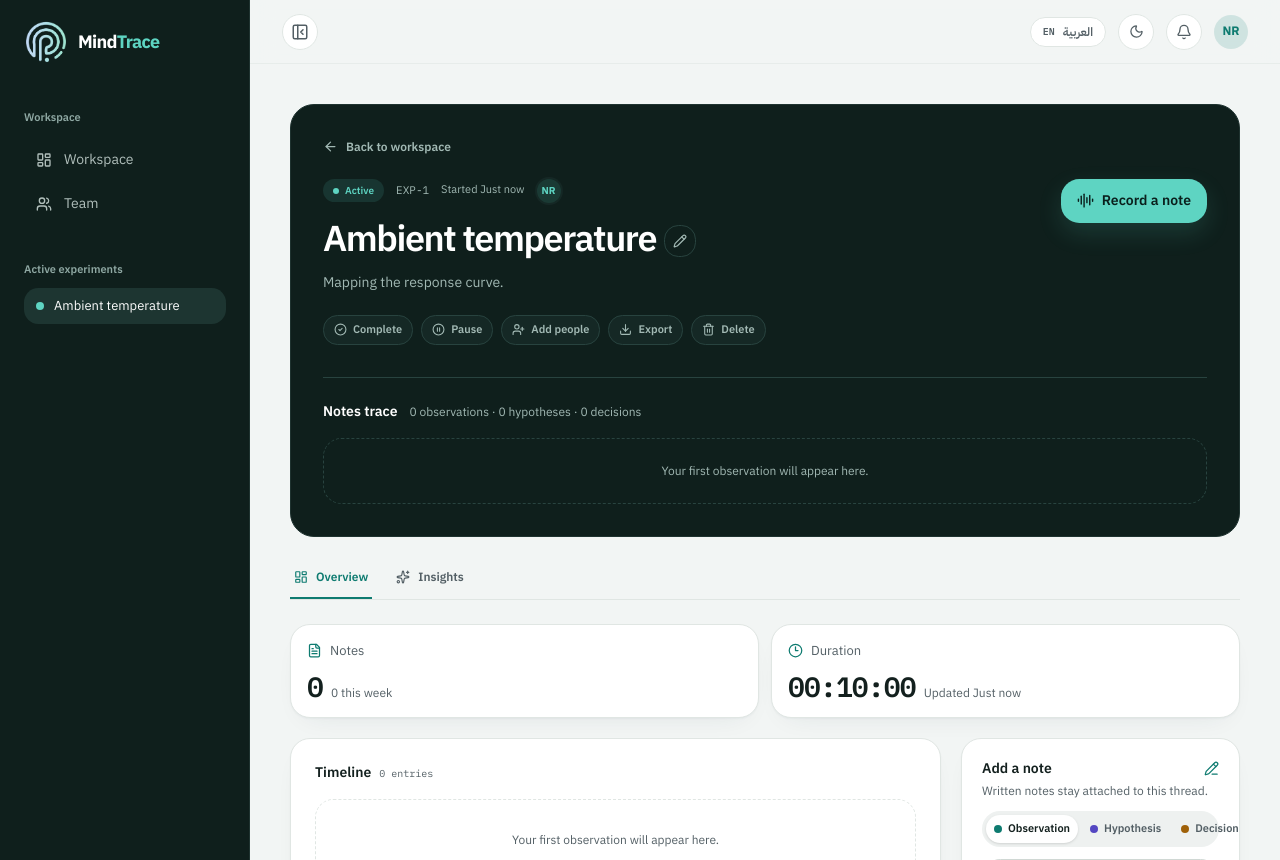
Test case: editing an experiment › the owner edits the title and summary
The width and height of the screenshot is (1280, 860).
Click the button with test id "button-edit-details".
click(680, 240)  # box [664,224,696,256]
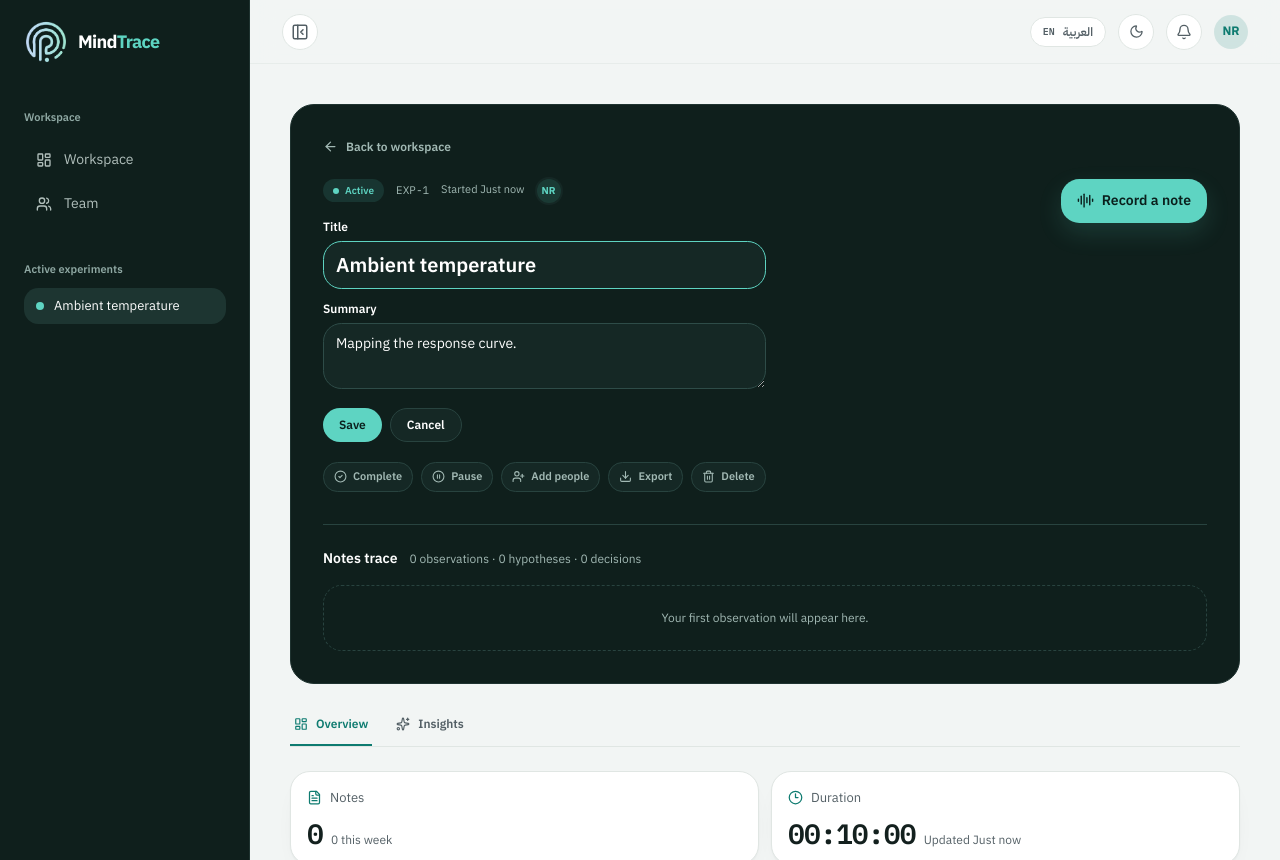
Replace the text in the field with test id "input-edit-title" with "Heat and reaction time" at (544, 264), box [323,240,766,288]
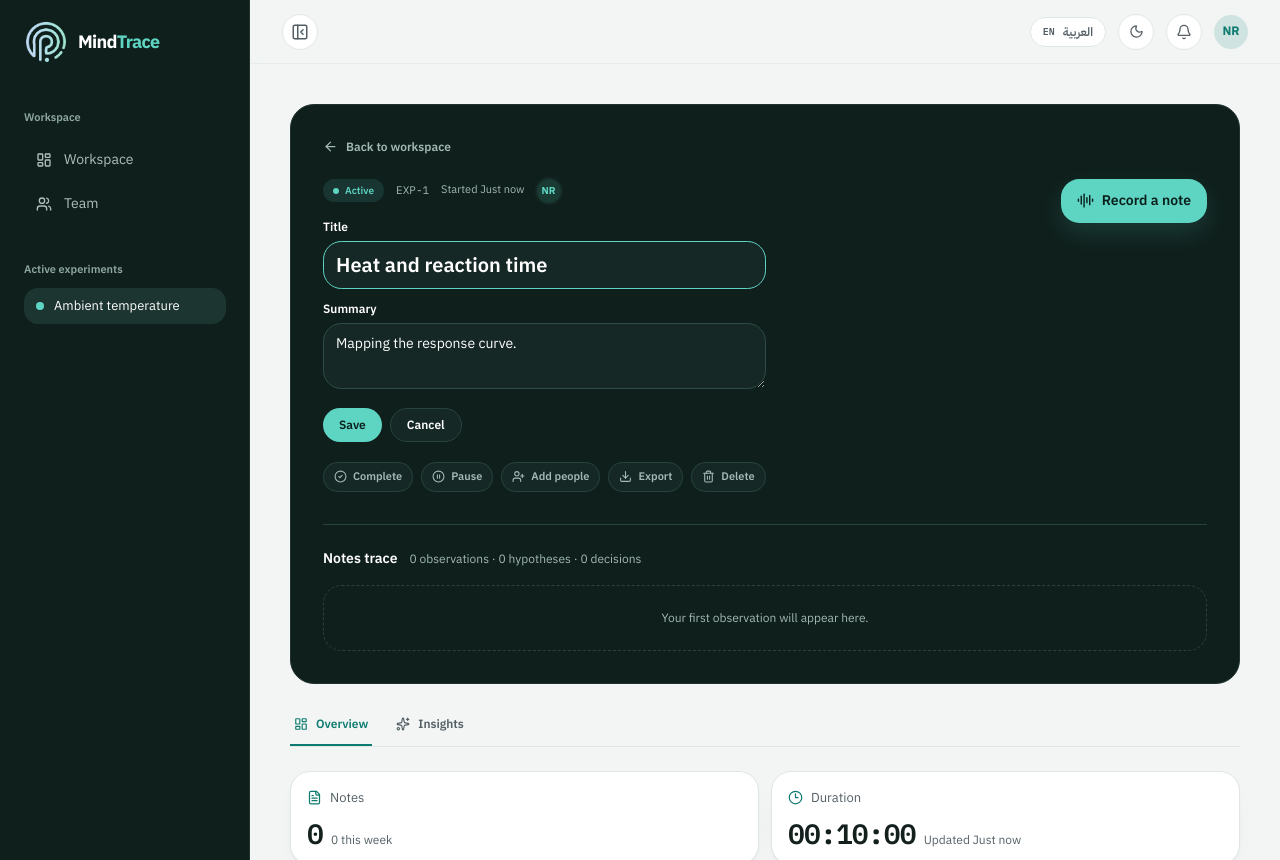
Click the button with test id "button-save-details".
click(352, 424)  # box [323,408,382,442]
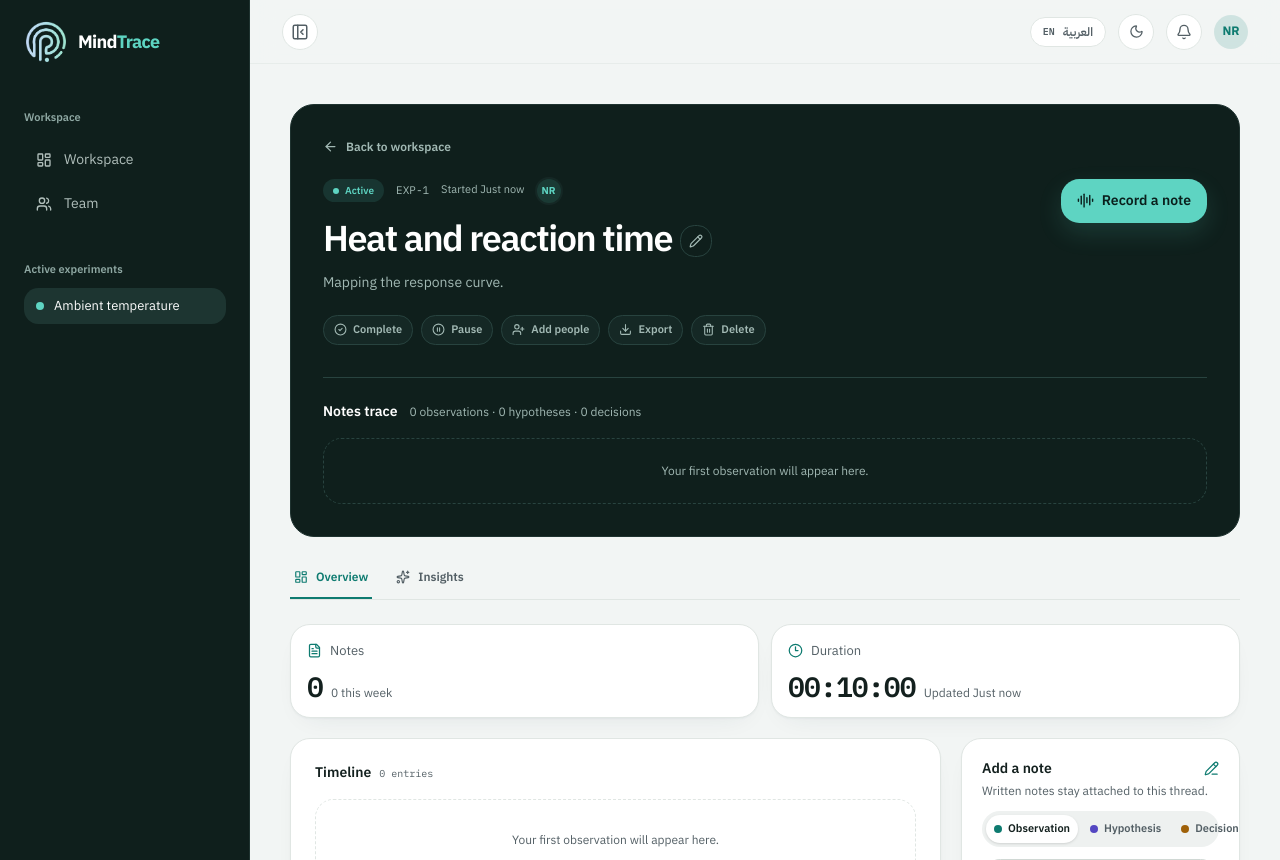
Expected: the heading with test id "experiment-title" reads "Heat and reaction time", [323,212,672,266]
